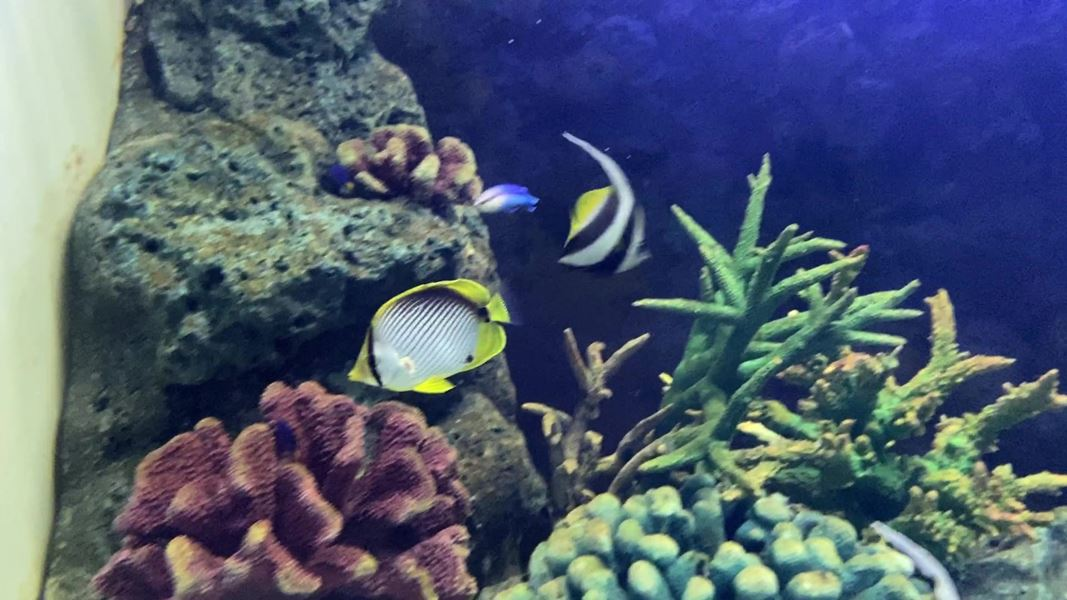Bluesteak cleaner wrasse: (468, 177, 547, 228)
